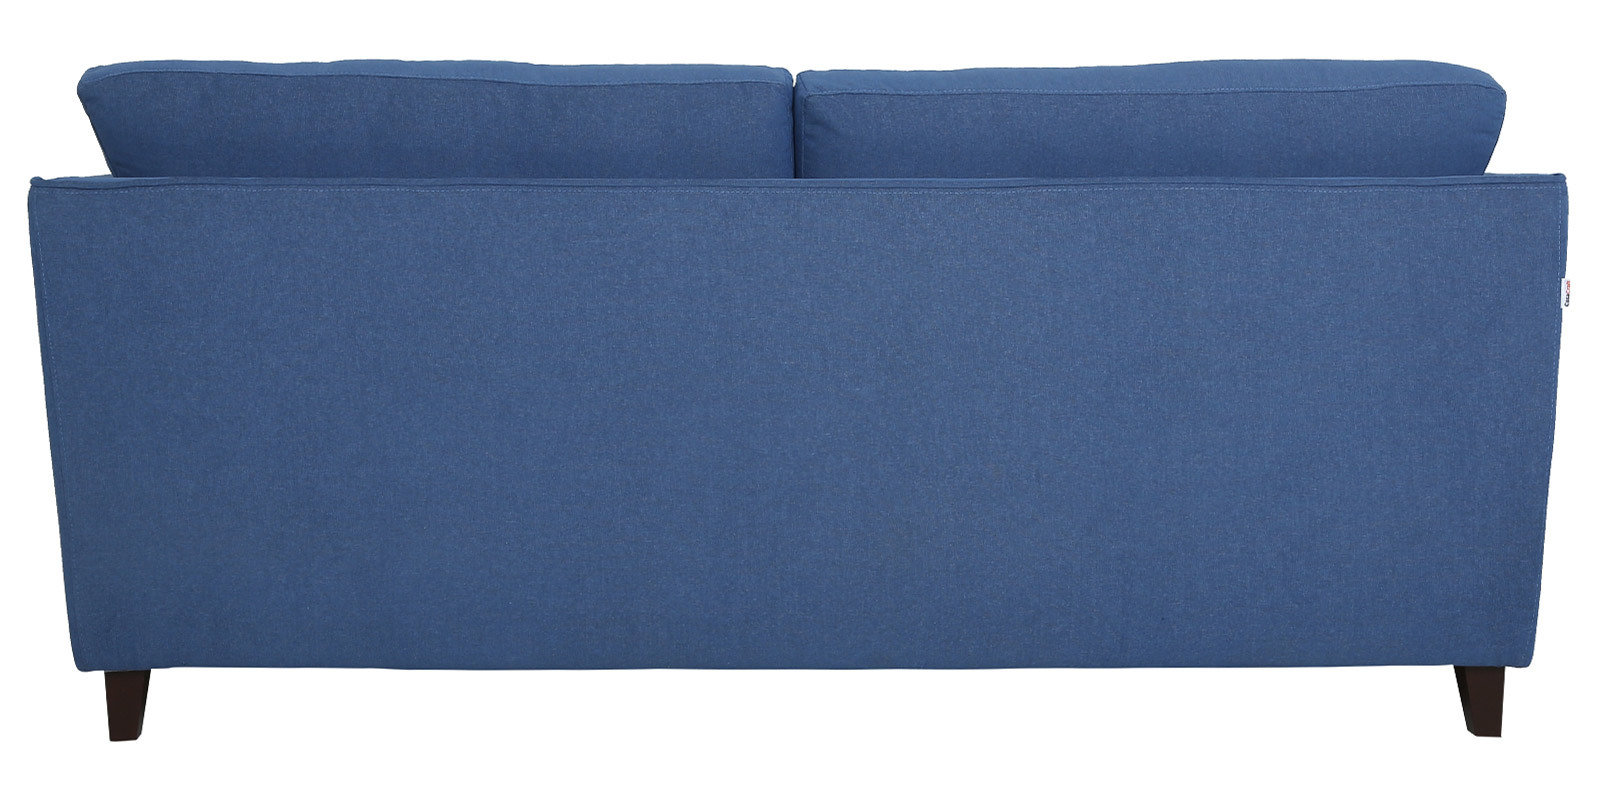Miranda Three Seater Sofa in Denim Blue Colour by CasaCraft: (28, 55, 1567, 741)
